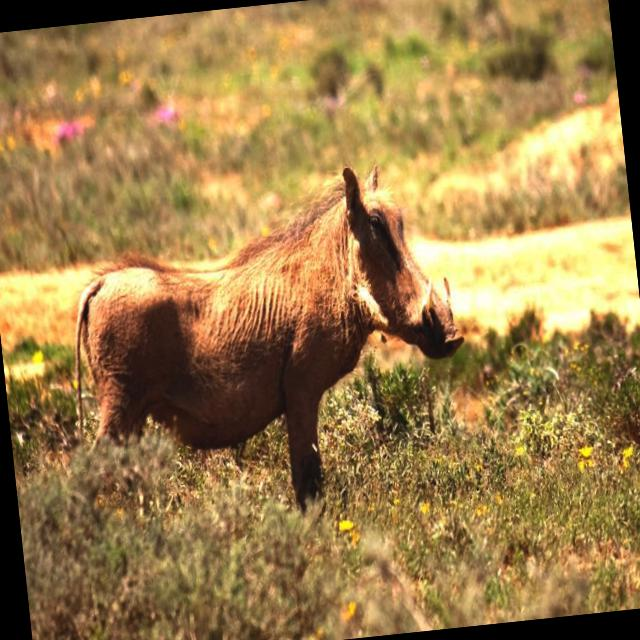pig: (75, 167, 463, 505)
